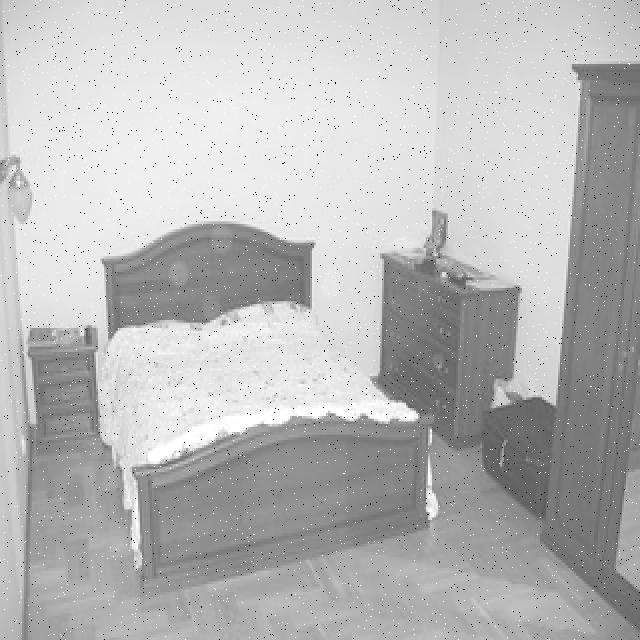bed: (98, 252, 431, 552)
